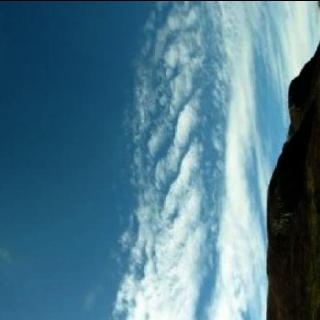Cirrocumulus: (0, 0, 306, 320)
